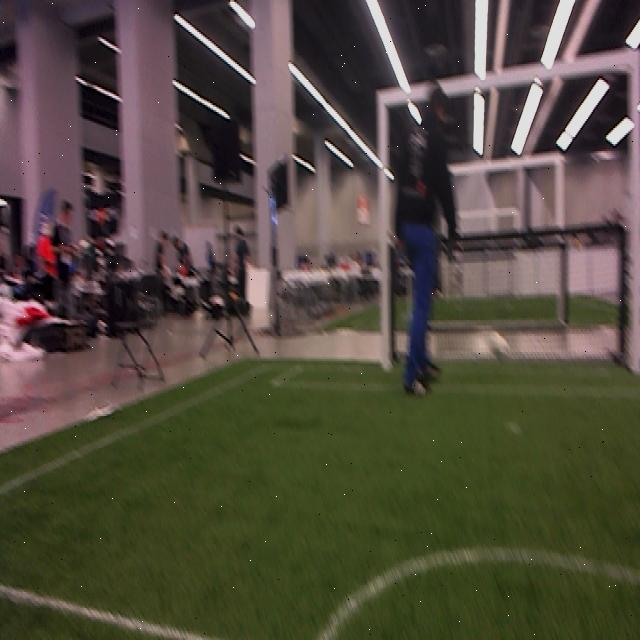ball: (490, 331, 509, 366)
goalpost: (376, 89, 391, 373), (628, 44, 639, 377)
